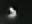person: (9, 8, 18, 21)
